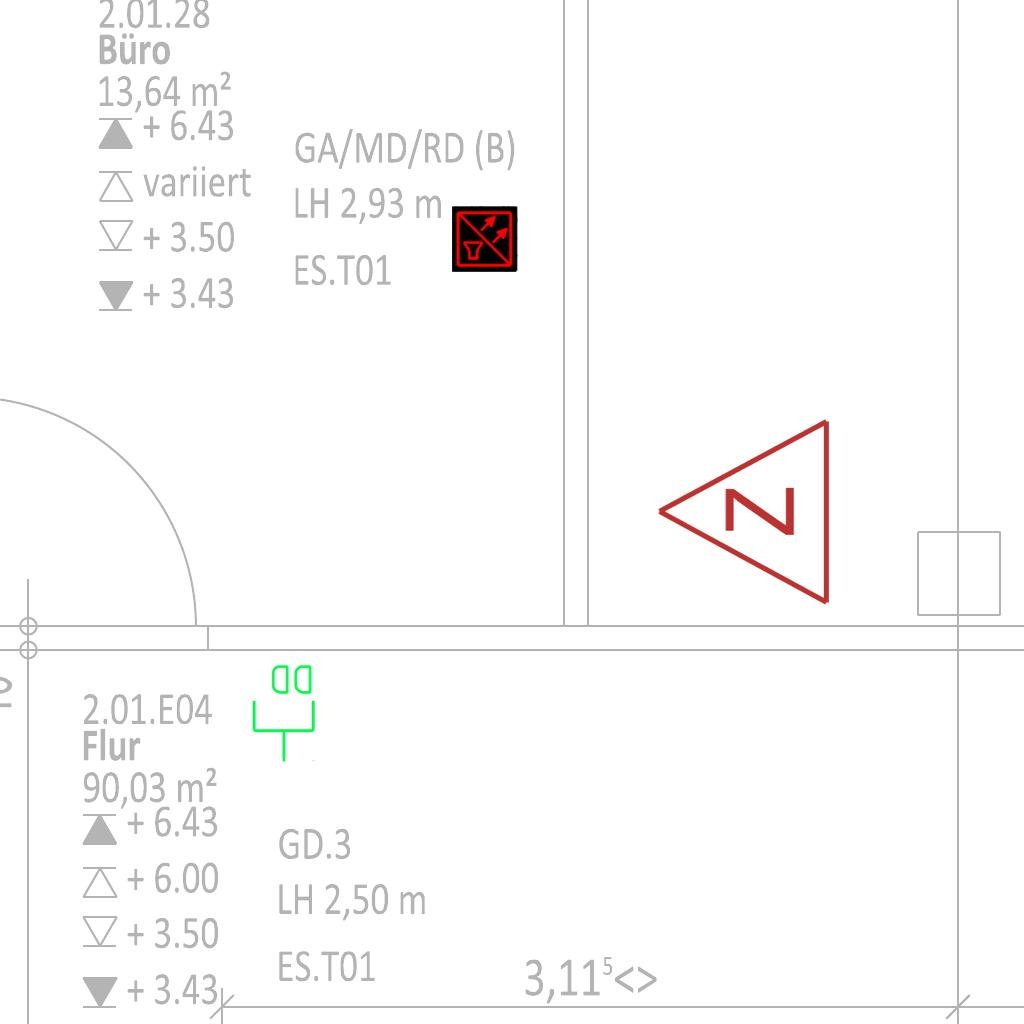Datenanschluss_zweifach: (250, 661, 319, 764)
OKW_Multisensormelder_(Kombination_optischer_Rauch-Kahlenmonoxid_Waerme-Melder): (452, 206, 518, 272)
Zimmersignalleuchte: (644, 416, 844, 612)
